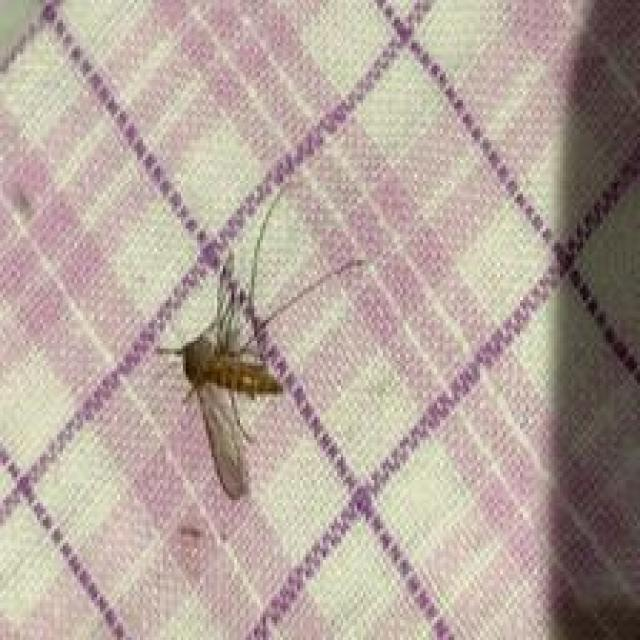Culex: (153, 187, 367, 502)
